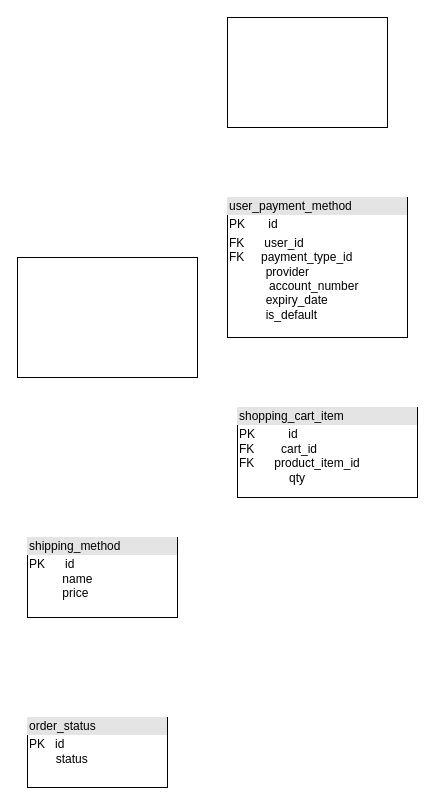
Some shapes in this 435 by 805 pixel diagram are drawn without their labels. Each missing label, with the box of its shape:
Order_line PK id FK product_item_id FK order_id qty price: (16, 256, 198, 378)
user_review PK id FK1 user_id FK ordered_product_id rating_value comment: (226, 16, 388, 128)
